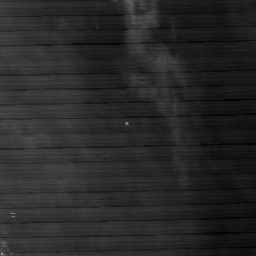Target: (124, 119, 132, 125)
